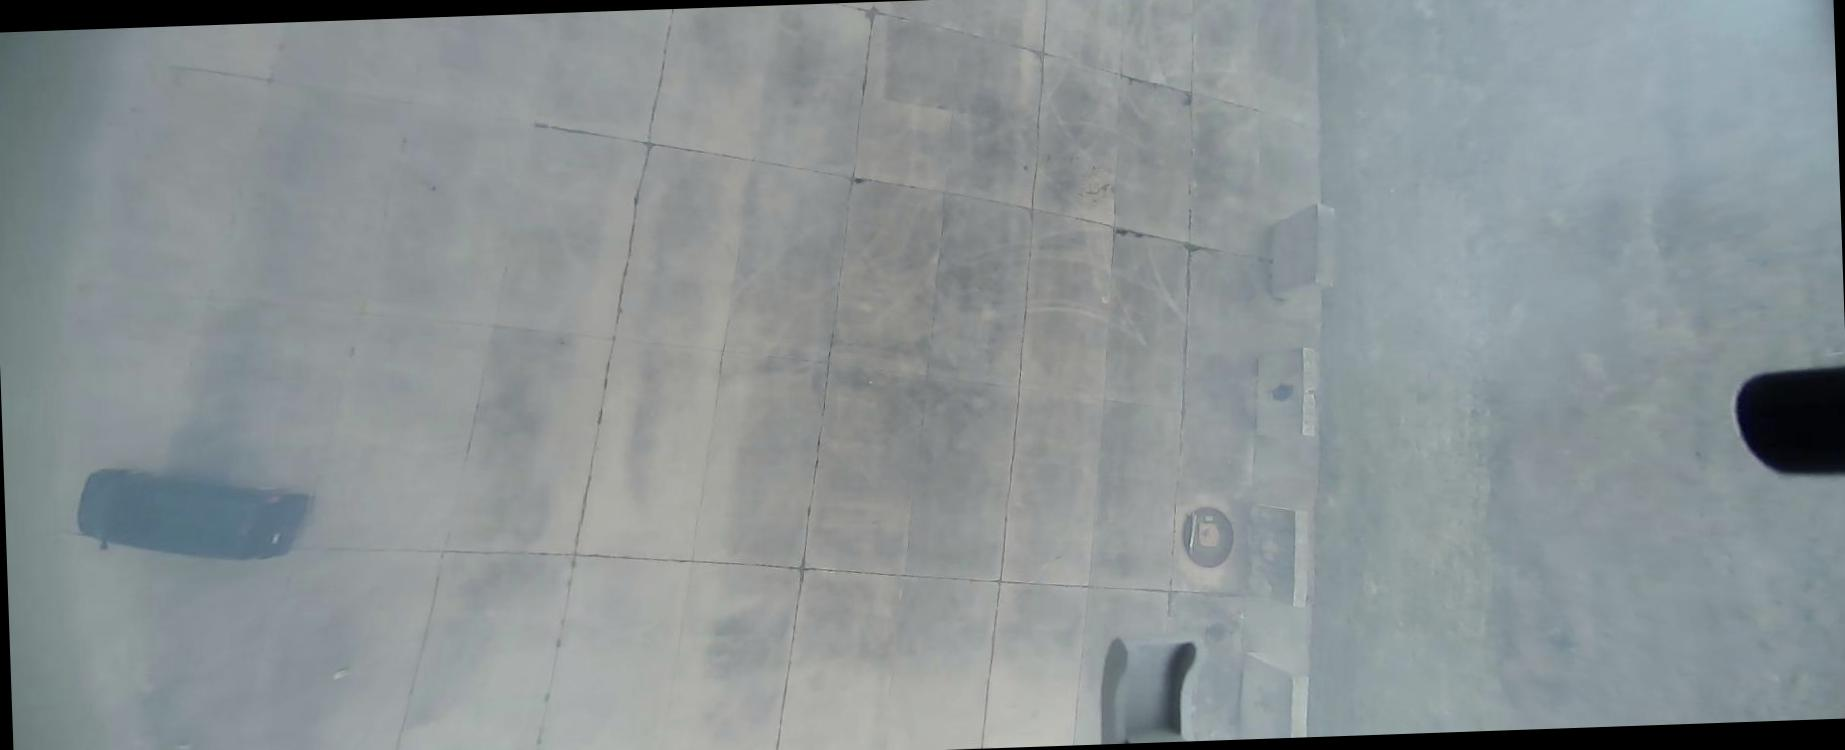vehicle: (73, 462, 312, 568)
